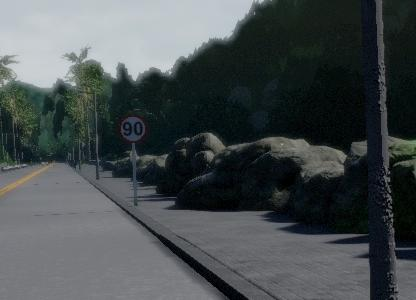Speed_90: (117, 112, 150, 146)
